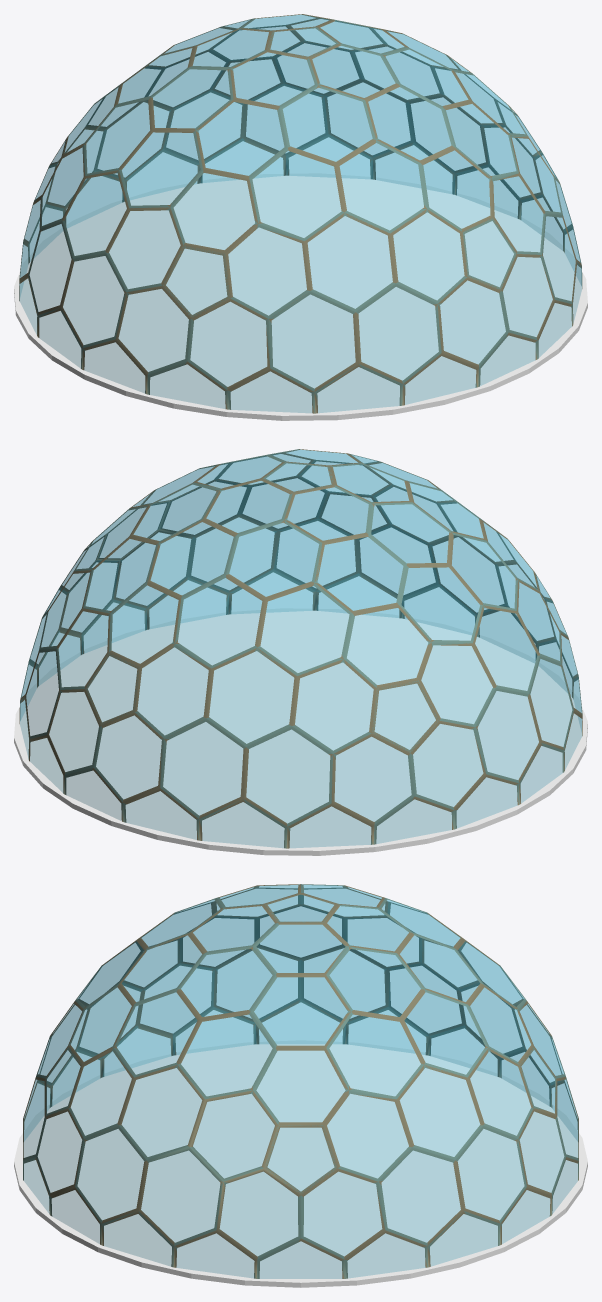
Rendered from adaptive-dome.glb.
3 renders of one model, top to bottom at view 1: azimuth 30°, elevation 25°; view 2: azimuth 150°, elevation 25°; view 3: azimuth 270°, elevation 25°, orthographic.
Parts seen in each view (by area): view 1: Dome_Panels, Base_Platform, Dome_Frame; view 2: Dome_Panels, Base_Platform, Dome_Frame; view 3: Dome_Panels, Base_Platform, Dome_Frame.
Part boxes in pixels (box(x1,y1,x2,y2)): Dome_Panels: box(19, 14, 581, 412); Base_Platform: box(14, 173, 587, 420); Dome_Frame: box(19, 14, 582, 413); Dome_Panels: box(20, 449, 582, 847); Base_Platform: box(14, 608, 587, 855); Dome_Frame: box(19, 449, 582, 848); Dome_Panels: box(23, 884, 578, 1278); Base_Platform: box(14, 1040, 587, 1287); Dome_Frame: box(23, 884, 578, 1278).
Size of the model in its own units: 10 by 4.94 by 10.
